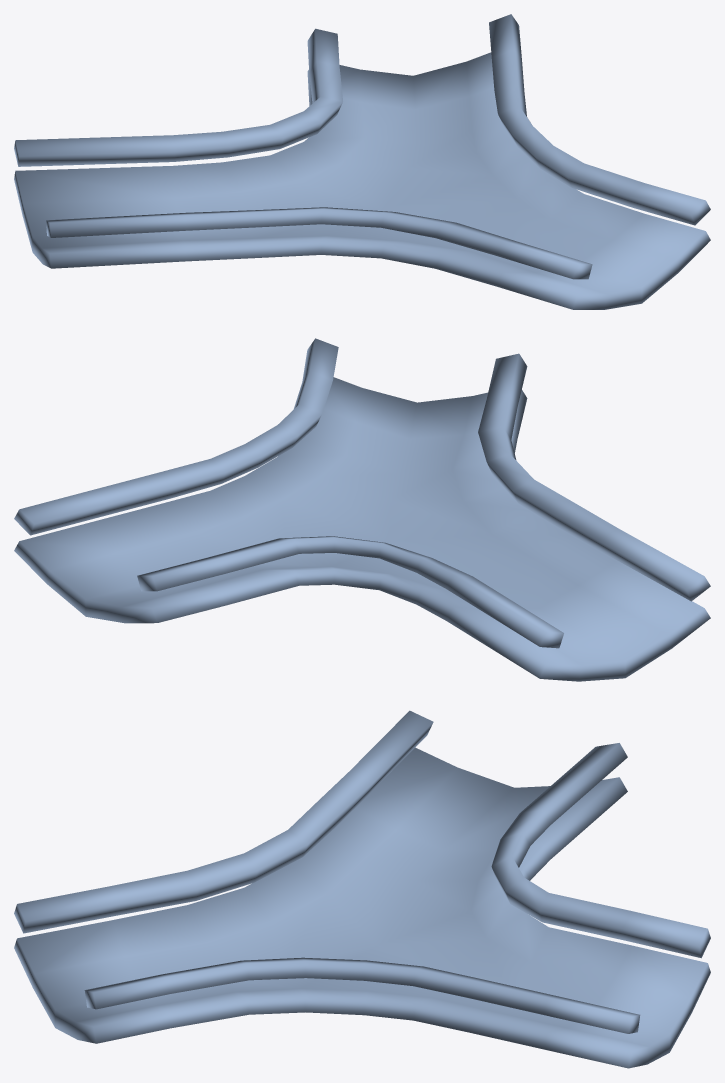
Rendered from junRoadTee2p5.fbx.
3 renders of one model, top to bottom at view 1: azimuth 30°, elevation 25°; view 2: azimuth 150°, elevation 25°; view 3: azimuth 270°, elevation 25°, orthographic. The views are drawn at different scales.
Visible parts, largest first — view 1: junRoadTee2p5_LOD0, junRoadTee2p5_edge_LOD0; view 2: junRoadTee2p5_LOD0, junRoadTee2p5_edge_LOD0; view 3: junRoadTee2p5_LOD0, junRoadTee2p5_edge_LOD0.
Part boxes in pixels (x1,y1,x2,y2): junRoadTee2p5_LOD0: (14, 52, 710, 309); junRoadTee2p5_edge_LOD0: (14, 14, 710, 279); junRoadTee2p5_LOD0: (14, 377, 710, 681); junRoadTee2p5_edge_LOD0: (14, 338, 710, 648); junRoadTee2p5_LOD0: (14, 747, 710, 1068); junRoadTee2p5_edge_LOD0: (14, 710, 710, 1033).
Size of the model in its own units: 972 by 117 by 918.
